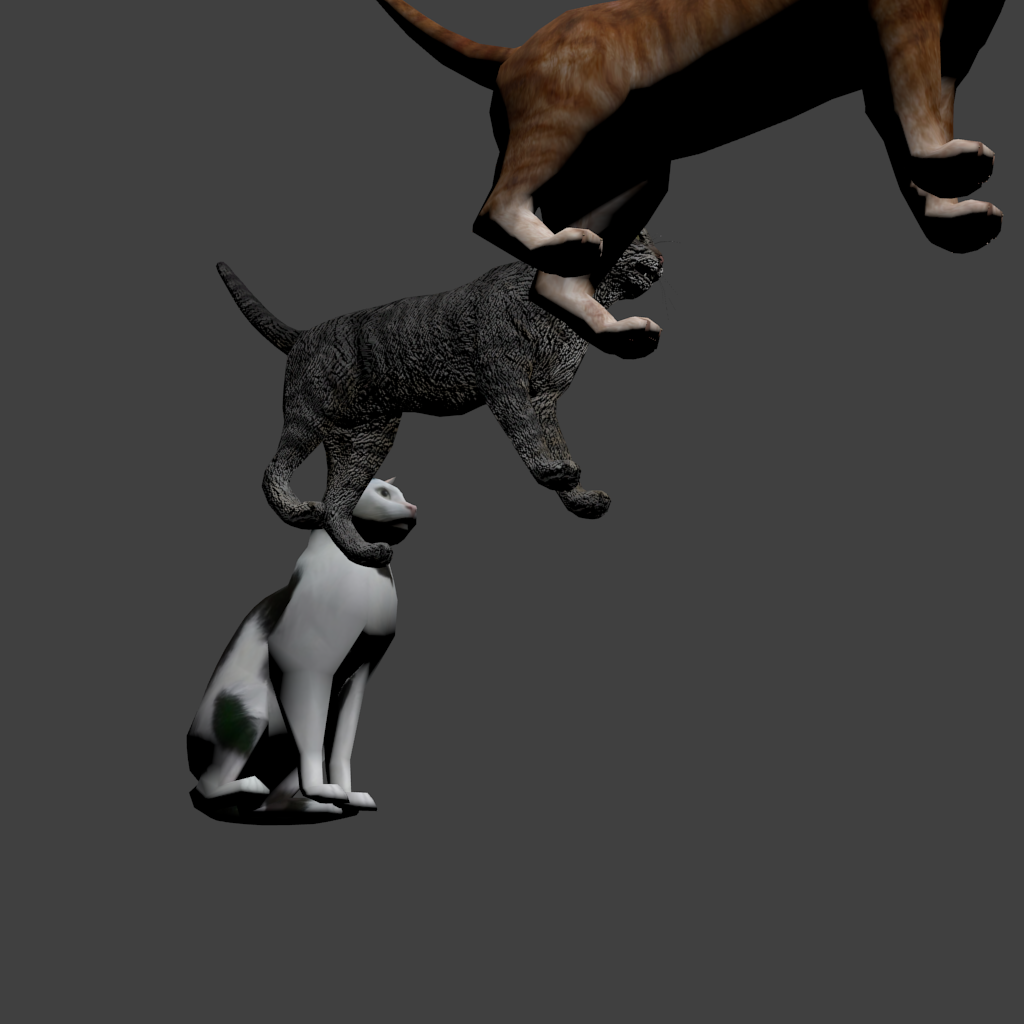Cat: (373, 0, 651, 360), (216, 228, 469, 340)
